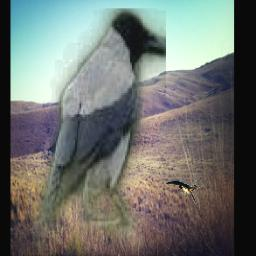Crow: (33, 8, 167, 251)
Swallow: (164, 179, 206, 205)
